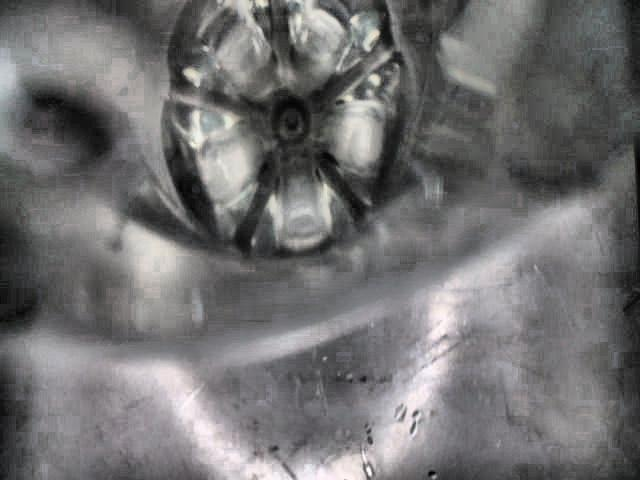Bottles: (155, 0, 409, 250)
